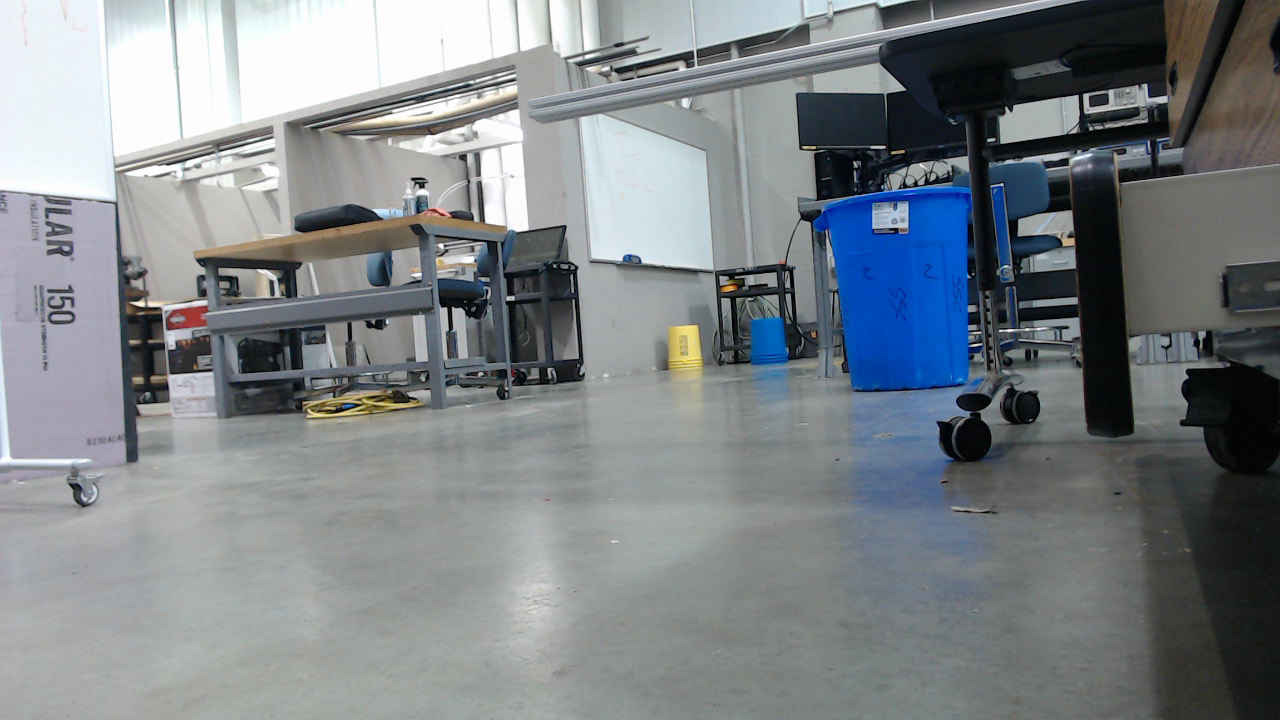blue_bucket: (752, 320, 796, 373)
yellow_bucket: (669, 327, 711, 378)
